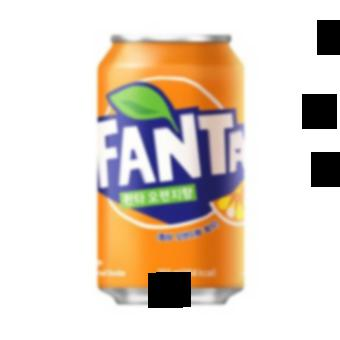fanta_orange: (91, 32, 251, 311)
